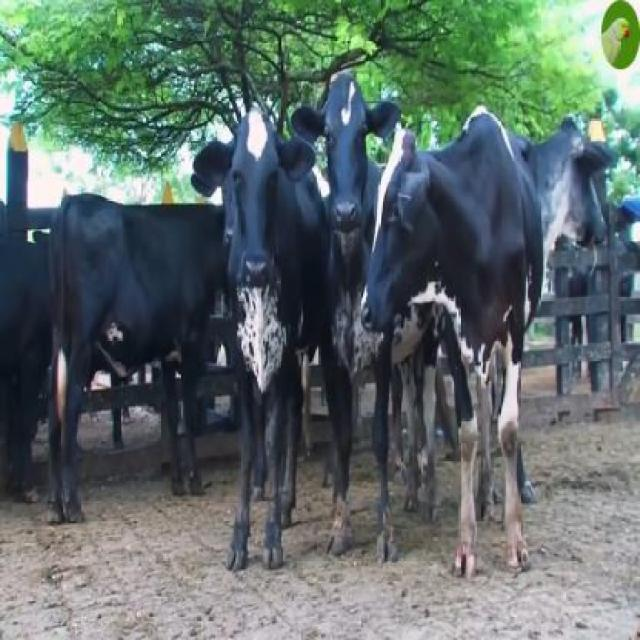Cow: (362, 103, 542, 577), (192, 101, 323, 574), (289, 76, 400, 564)
